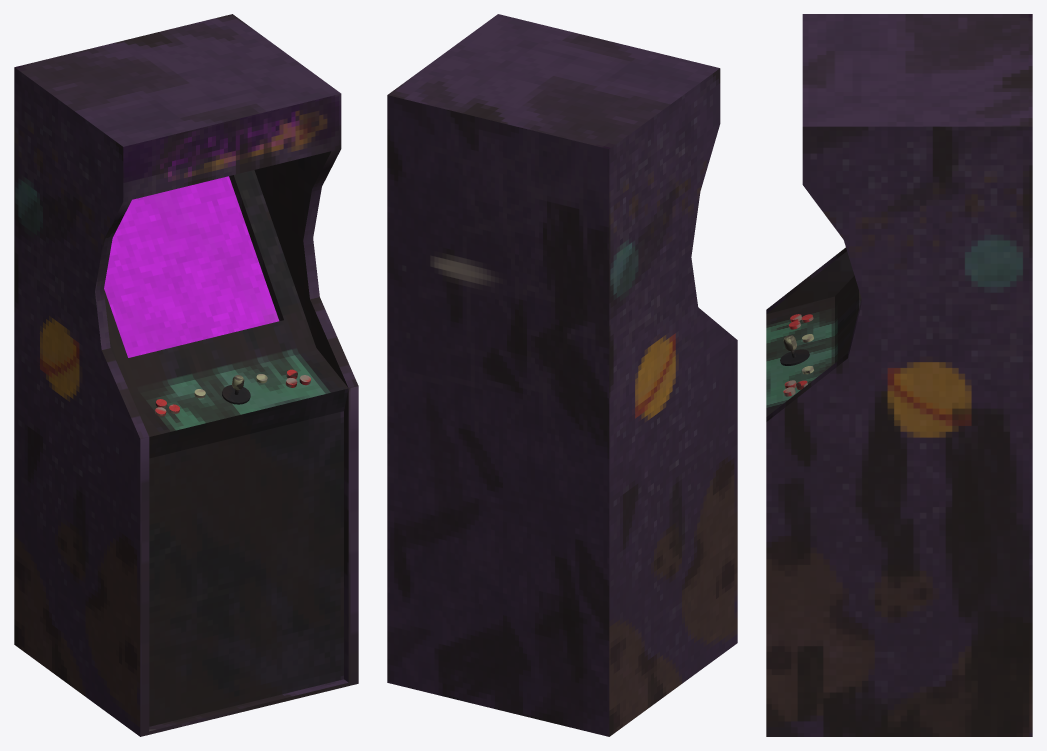
Rendered from SpaceGameArcade.fbx.
The picture shows the model from 3 angles, left to right: view 1: azimuth 30°, elevation 25°; view 2: azimuth 150°, elevation 25°; view 3: azimuth 270°, elevation 25°; orthographic projection. The views are drawn at different scales.
Parts seen in each view (by area): view 1: pCube1; view 2: pCube1; view 3: pCube1.
Part boxes in pixels (x1,y1,x2,y2): pCube1: [14, 14, 358, 736]; pCube1: [387, 14, 737, 736]; pCube1: [766, 14, 1032, 736].
Bounding box in the file's own units: 2.2 × 5.56 × 2.2.
